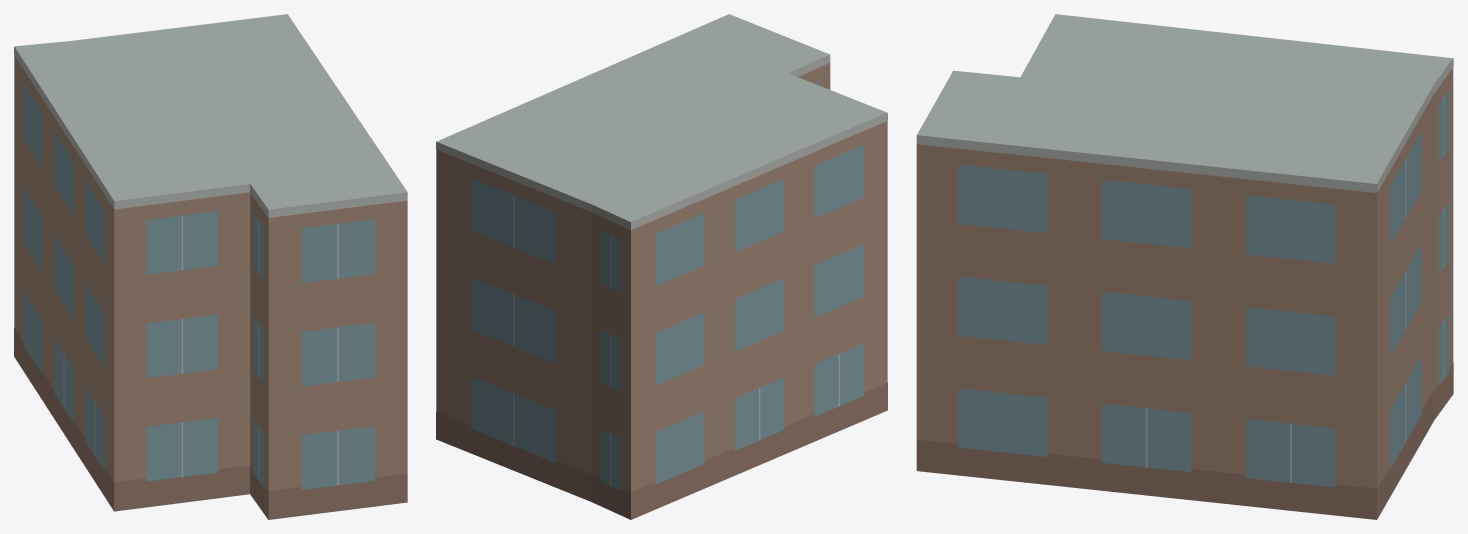
The model's file is survey-upis-32939573.glb.
The picture shows the model from 3 angles, left to right: view 1: azimuth 30°, elevation 25°; view 2: azimuth 150°, elevation 25°; view 3: azimuth 270°, elevation 25°; orthographic projection. The views are drawn at different scales.
Visible parts, largest first — view 1: survey-upis-32939573.tmp; view 2: survey-upis-32939573.tmp; view 3: survey-upis-32939573.tmp.
Boxes of the visible parts, left/top/right/bottom form: survey-upis-32939573.tmp: left=14, top=14, right=407, bottom=519; survey-upis-32939573.tmp: left=436, top=14, right=887, bottom=519; survey-upis-32939573.tmp: left=916, top=14, right=1453, bottom=519.
Bounding box in the file's own units: 9.89 × 9.1 × 13.19.
